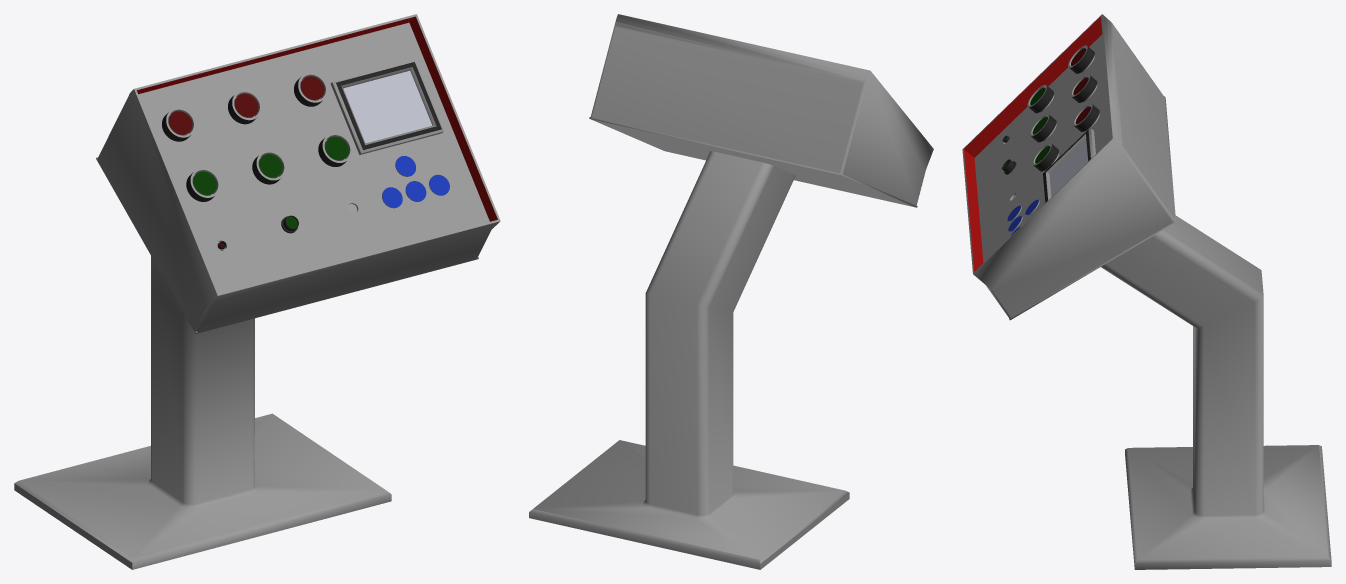
The model's file is bandsaw_control.FBX.
3 renders of one model, left to right at view 1: azimuth 30°, elevation 25°; view 2: azimuth 150°, elevation 25°; view 3: azimuth 270°, elevation 25°, orthographic. The views are drawn at different scales.
Parts seen in each view (by area): view 1: Bandsaw_ControlPanel; view 2: Bandsaw_ControlPanel; view 3: Bandsaw_ControlPanel.
Boxes of the visible parts, x1,y1,x2,y2 form: Bandsaw_ControlPanel: [14, 14, 500, 569]; Bandsaw_ControlPanel: [529, 14, 933, 569]; Bandsaw_ControlPanel: [962, 14, 1331, 569].
Size of the model in its own units: 30.72 by 48.94 by 37.49.
